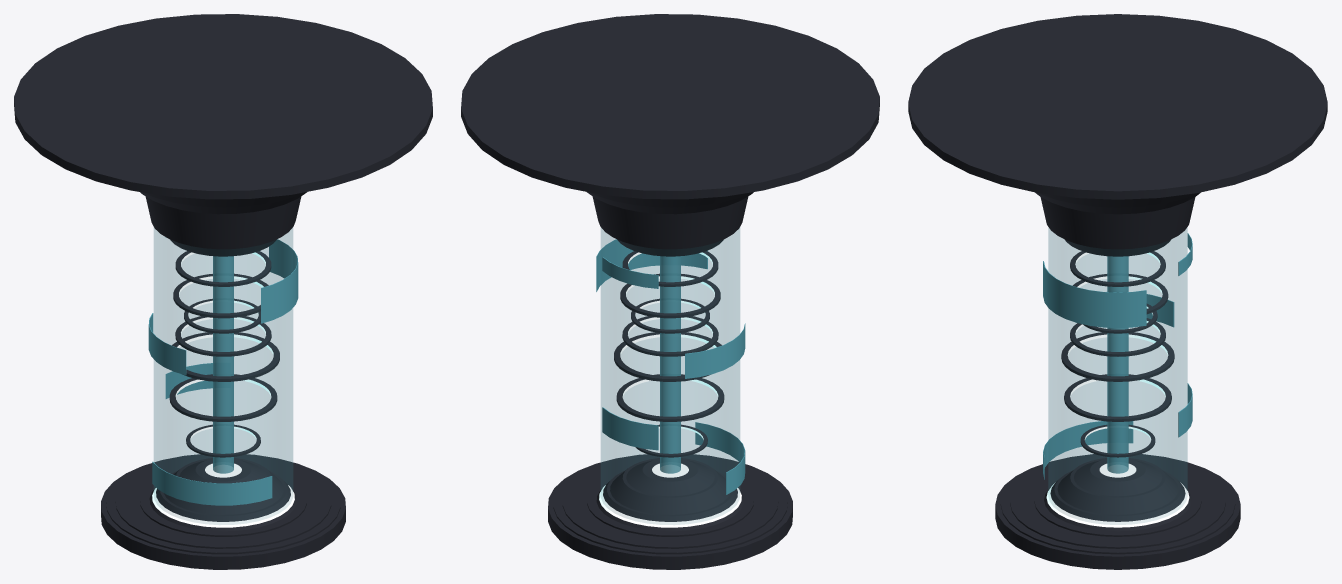
The picture shows the model from 3 angles, left to right: view 1: azimuth 30°, elevation 25°; view 2: azimuth 150°, elevation 25°; view 3: azimuth 270°, elevation 25°; orthographic projection.
Visible parts, largest first — view 1: Cylinder.001, Cylinder.012, Cylinder, Cylinder.002, Cylinder.014, Cylinder.005, Cylinder.004, Cylinder.006, Cylinder.008, Cylinder.007, Cylinder.009, Cylinder.011 (+3 smaller); view 2: Cylinder.001, Cylinder.012, Cylinder, Cylinder.002, Cylinder.008, Cylinder.005, Cylinder.014, Cylinder.013, Cylinder.004, Cylinder.006, Cylinder.009, Cylinder.007 (+3 smaller); view 3: Cylinder.001, Cylinder.012, Cylinder, Cylinder.005, Cylinder.002, Cylinder.014, Cylinder.006, Cylinder.004, Cylinder.011, Cylinder.007, Cylinder.003, Cylinder.009 (+1 smaller).
Part boxes in pixels (<box>): Cylinder.001: <box>14,14,432,256</box>; Cylinder.012: <box>154,228,292,524</box>; Cylinder: <box>101,454,345,569</box>; Cylinder.002: <box>213,256,233,473</box>; Cylinder.014: <box>152,461,272,505</box>; Cylinder.005: <box>261,239,298,323</box>; Cylinder.004: <box>169,374,277,421</box>; Cylinder.006: <box>172,332,279,381</box>; Cylinder.008: <box>148,313,186,375</box>; Cylinder.007: <box>175,316,271,356</box>; Cylinder.009: <box>173,273,268,318</box>; Cylinder.011: <box>175,251,271,286</box>; Cylinder.001: <box>461,14,879,256</box>; Cylinder.012: <box>601,228,739,524</box>; Cylinder: <box>548,454,792,569</box>; Cylinder.002: <box>660,256,680,473</box>; Cylinder.008: <box>685,323,745,378</box>; Cylinder.005: <box>596,239,707,291</box>; Cylinder.014: <box>695,422,745,494</box>; Cylinder.013: <box>602,407,658,450</box>; Cylinder.004: <box>616,374,724,421</box>; Cylinder.006: <box>614,332,721,381</box>; Cylinder.009: <box>620,273,720,318</box>; Cylinder.007: <box>622,316,718,356</box>; Cylinder.001: <box>908,14,1327,256</box>; Cylinder.012: <box>1048,227,1187,524</box>; Cylinder: <box>995,454,1240,569</box>; Cylinder.005: <box>1043,261,1146,327</box>; Cylinder.002: <box>1107,256,1128,473</box>; Cylinder.014: <box>1043,421,1133,479</box>; Cylinder.006: <box>1061,332,1174,381</box>; Cylinder.004: <box>1064,374,1171,421</box>; Cylinder.011: <box>1070,251,1165,286</box>; Cylinder.007: <box>1070,318,1165,356</box>; Cylinder.003: <box>1080,424,1155,457</box>; Cylinder.009: <box>1072,274,1168,314</box>.
Bounding box in the file's own units: 3.66 × 4 × 3.66.
